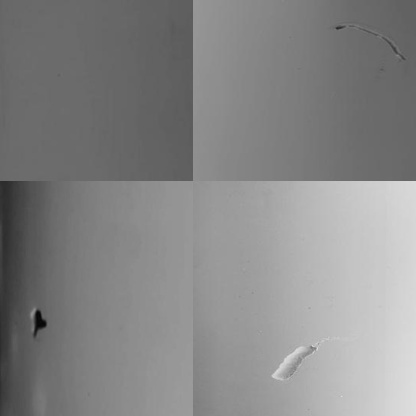fengxi: (329, 16, 407, 67)
kongdong: (25, 304, 50, 341)
sunshang: (266, 337, 320, 383)
